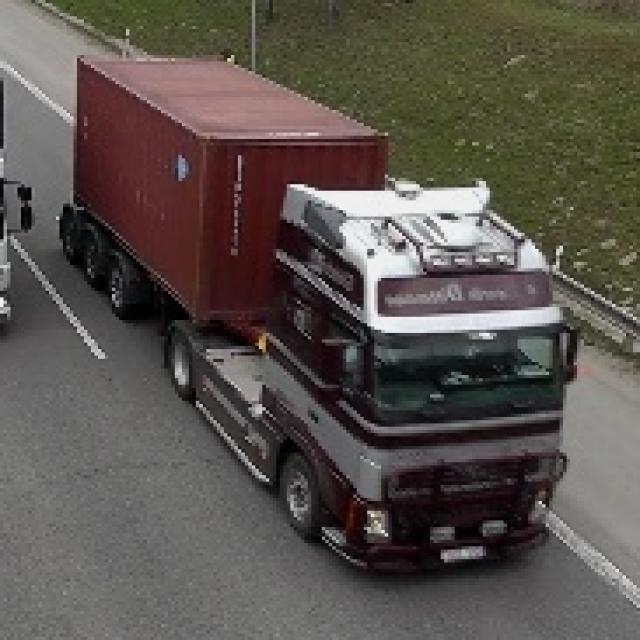TRUCK: (54, 63, 578, 578)
